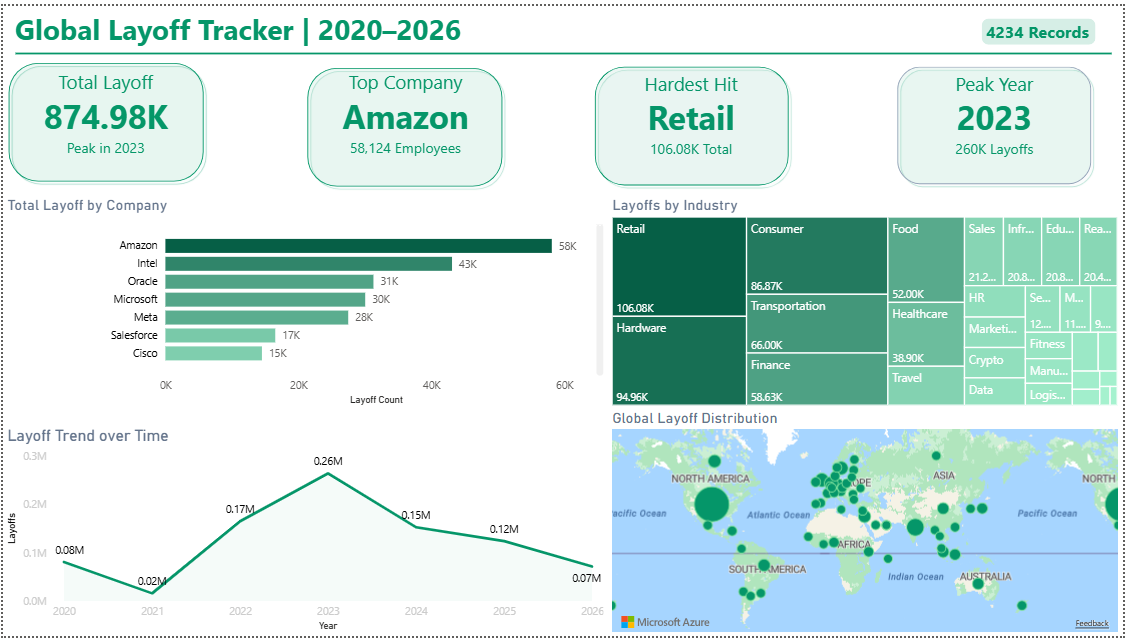

The dashboard page shown, as its layout file describes it:
{"tool":"powerbi","page":{"name":"Total layoff by company","canvas":[1280,720],"ordinal":0},"visuals":[{"type":"barChart","title":"Total Layoff by Company","fields":{"Category":["LAYOFFS_CLEAN.COMPANY"],"Y":["Sum(LAYOFFS_CLEAN.TOTAL_LAID_OFF)"]},"box":[0,67.3,692.1,327.7],"z":0},{"type":"lineChart","title":"Layoff Trend over Time","fields":{"Category":["LAYOFFS_CLEAN.LAYOFF_DATE.Variation.Date Hierarchy.Year","LAYOFFS_CLEAN.LAYOFF_DATE.Variation.Date Hierarchy.Quarter","LAYOFFS_CLEAN.LAYOFF_DATE.Variation.Date Hierarchy.Month","LAYOFFS_CLEAN.LAYOFF_DATE.Variation.Date Hierarchy.Day"],"Y":["Sum(LAYOFFS_CLEAN.TOTAL_LAID_OFF)"]},"box":[0,404.8,682.3,315.5],"z":1000},{"type":"treemap","title":"Layoffs by Industry","fields":{"Group":["LAYOFFS_CLEAN.INDUSTRY"],"Values":["Sum(LAYOFFS_CLEAN.TOTAL_LAID_OFF)"]},"box":[692.1,67.3,588.2,327.7],"z":2000},{"type":"map","title":"Global Layoff Distribution","fields":{"Category":["LAYOFFS_CLEAN.COUNTRY"],"Size":["Sum(LAYOFFS_CLEAN.TOTAL_LAID_OFF)"]},"box":[692,405,588,315],"z":3000},{"type":"textbox","box":[0,0,1280.3,67.3],"z":4000}]}

Visuals, with their boxes in screenshot pixels (x1, y1, x2, y2), scaled from the page's 1280x720 canvas onto the 1128x640 screenshot:
"Total Layoff by Company" barChart: <region>0, 60, 610, 351</region>
"Layoff Trend over Time" lineChart: <region>0, 360, 601, 639</region>
"Layoffs by Industry" treemap: <region>610, 60, 1127, 351</region>
"Global Layoff Distribution" map: <region>610, 360, 1127, 639</region>
textbox: <region>0, 0, 1127, 60</region>
